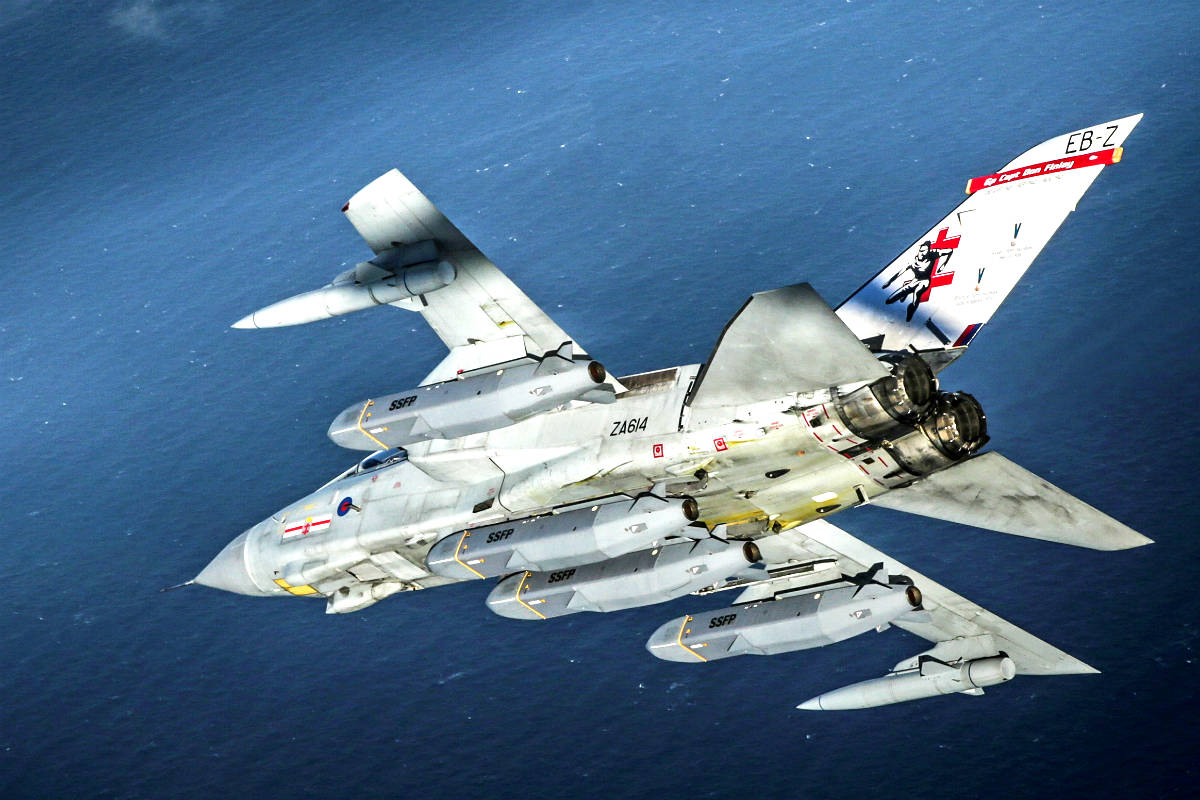Tornado: (158, 112, 1156, 711)
